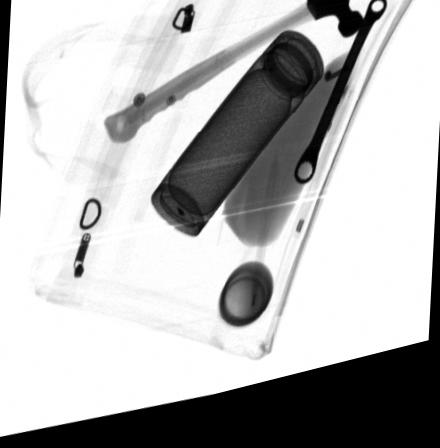Hammer: (103, 0, 364, 150)
Wrench: (293, 15, 387, 200)
